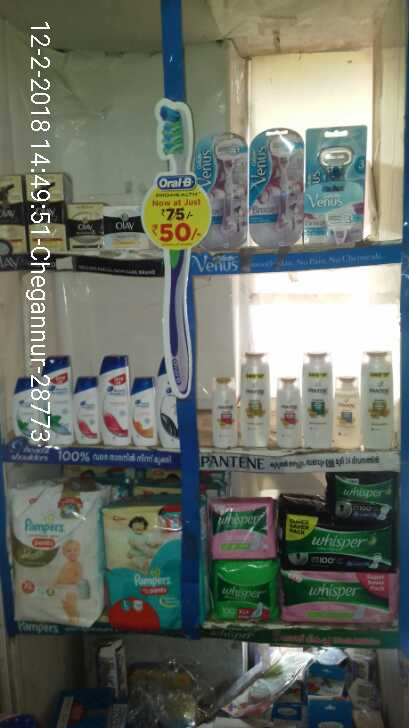venus: (306, 123, 366, 240), (202, 130, 253, 247), (253, 130, 306, 240)
